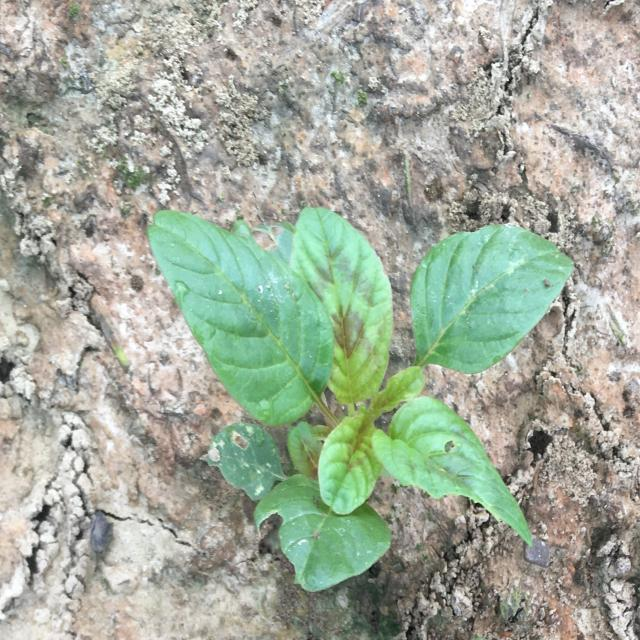PalmerAmaranth: (147, 205, 575, 592)
